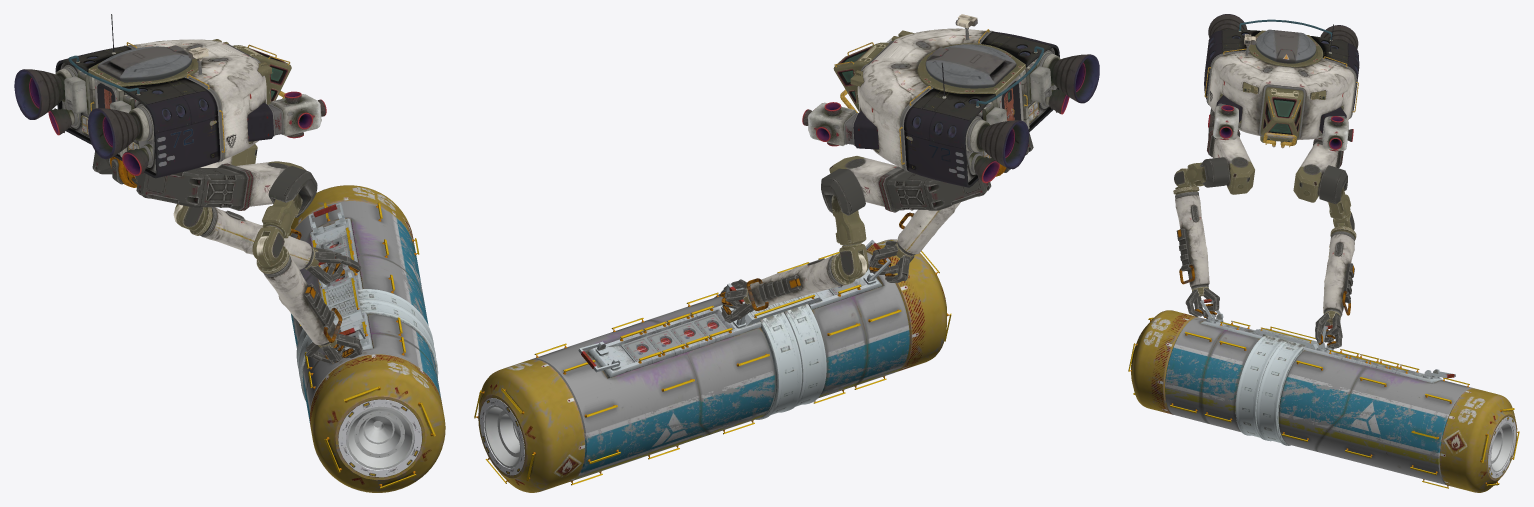
Rendered from skiff.glb.
The picture shows the model from 3 angles, left to right: view 1: azimuth 30°, elevation 25°; view 2: azimuth 150°, elevation 25°; view 3: azimuth 270°, elevation 25°; orthographic projection. The views are drawn at different scales.
Visible parts, largest first — view 1: hull; view 2: hull; view 3: hull.
Boxes of the visible parts, x1,y1,x2,y2 form: hull: (14, 14, 445, 492); hull: (474, 14, 1099, 492); hull: (1128, 14, 1519, 492).
Size of the model in its own units: 8 by 7.32 by 7.62.
7 materials, 7 textured.
